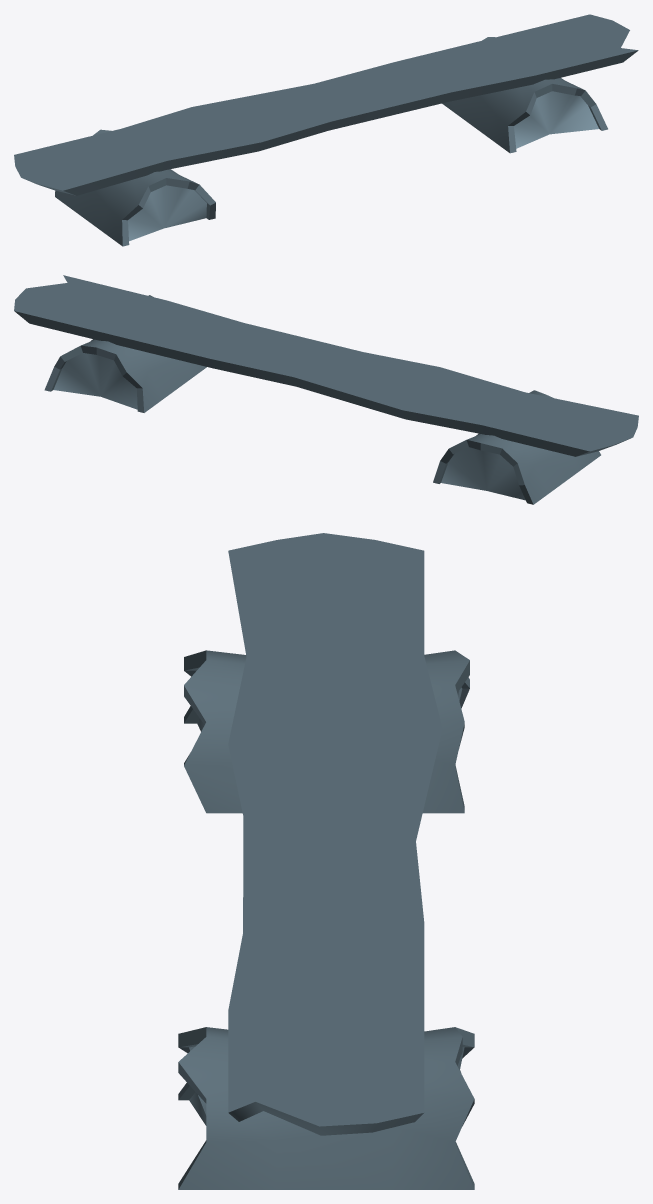
The model's file is TroncoL2.fbx.
3 views of the same model, one above another, from view 1: azimuth 30°, elevation 25°; view 2: azimuth 150°, elevation 25°; view 3: azimuth 270°, elevation 25° (orthographic). The views are drawn at different scales.
Visible parts, largest first — view 1: TroncoL2; view 2: TroncoL2; view 3: TroncoL2.
Boxes of the visible parts, x1=… form: TroncoL2: x1=14, y1=14, x2=638, y2=246; TroncoL2: x1=14, y1=275, x2=638, y2=504; TroncoL2: x1=178, y1=533, x2=474, y2=1189.
Bounding box in the file's own units: 523 × 48.93 × 110.
